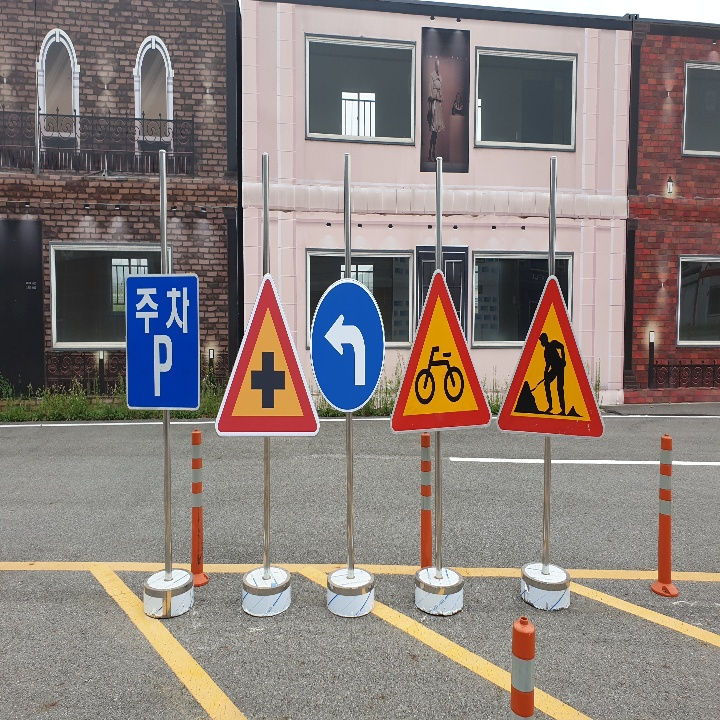bicycle: (390, 270, 493, 429)
const: (517, 325, 587, 420)
inter: (247, 344, 292, 414)
